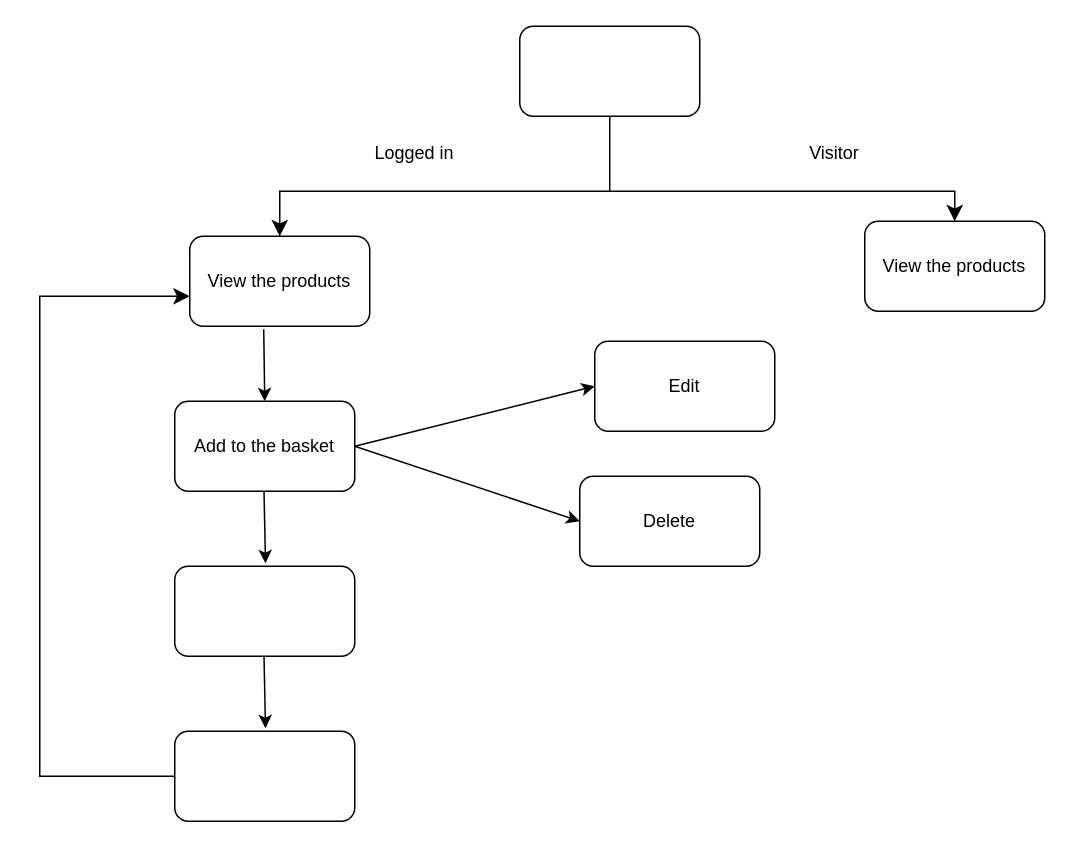
Some shapes in this 1071 by 848 pixel diagram are drawn without their labels. The centre of each missing label's shape, as x and y in pixels:
"Checkout" goes at pixel 264 610.
"confirmation later" goes at pixel 264 775.
"User =FK" goes at pixel 609 70.
